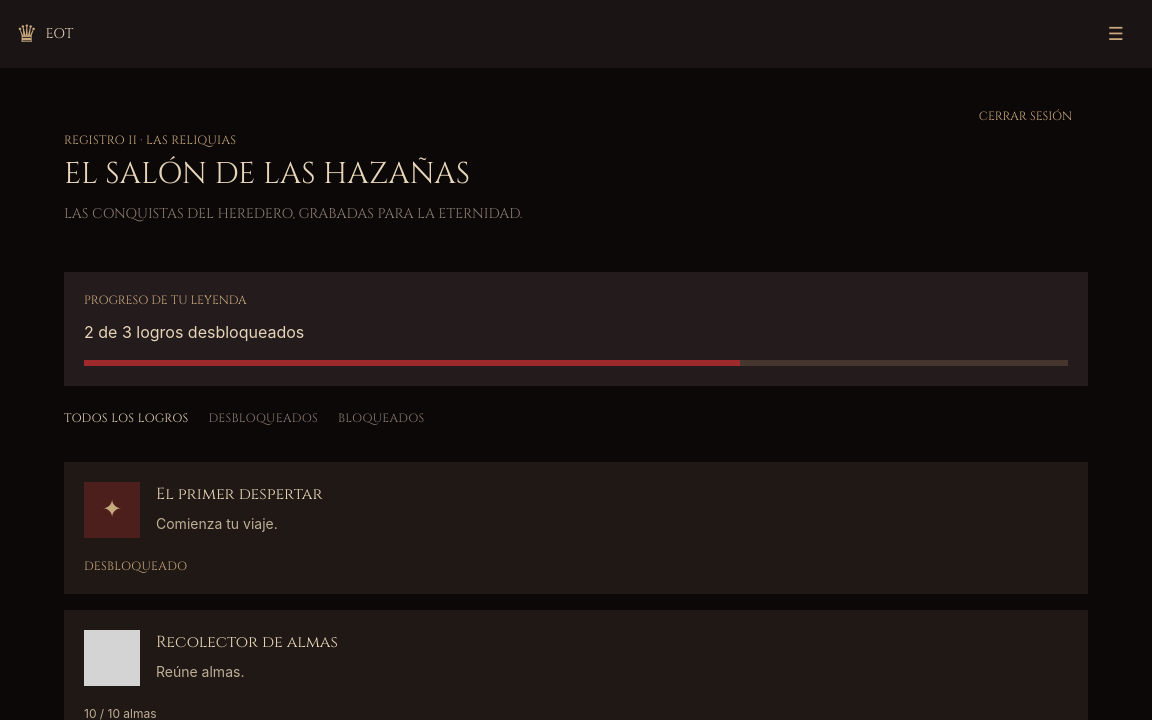
it: filters the achievement catalogue
The width and height of the screenshot is (1152, 720).
expect the text "2 de 3 logros desbloqueados" is shown: met, box [84,322,304,342]
What coordinates should you click on to do the following:
click the tab "Bloqueados"
I would click on:
 (381, 424)
Its box is [338,410,425,438].
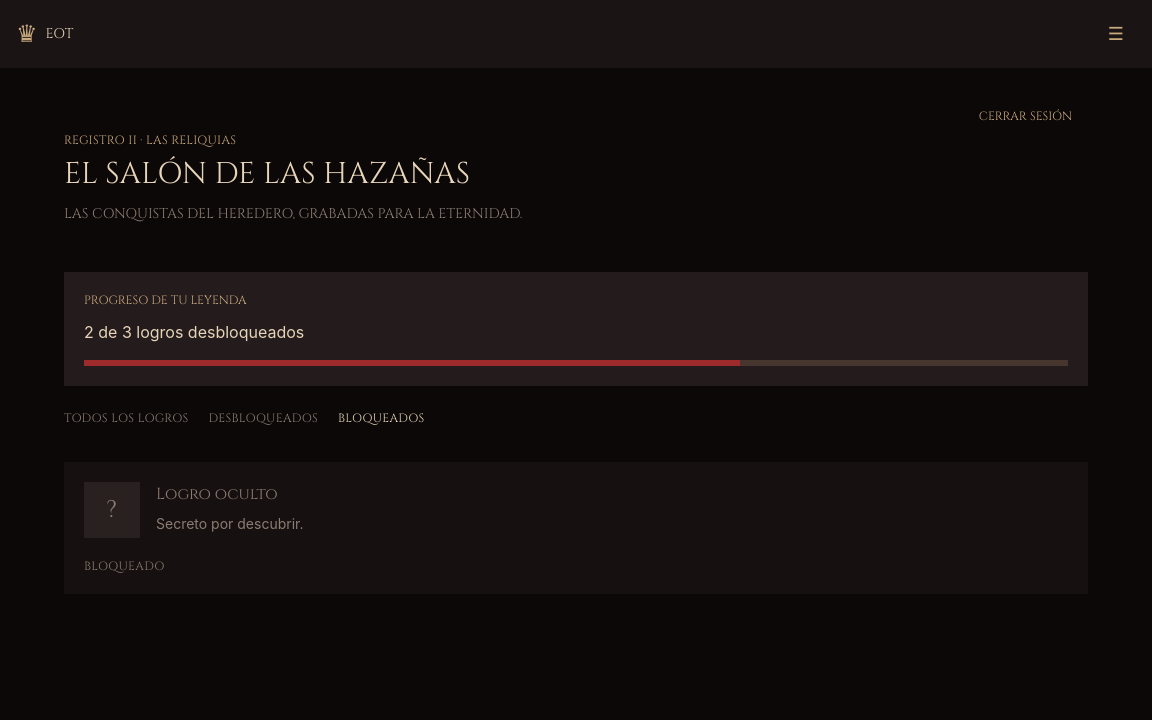
expect the heading "Logro oculto" is shown: met, box [156,483,278,505]
expect the heading "El primer despertar" is gone: met
